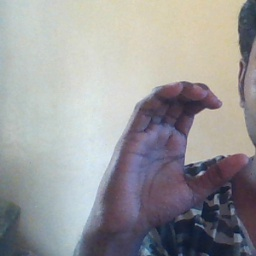C: (165, 75, 253, 211)
